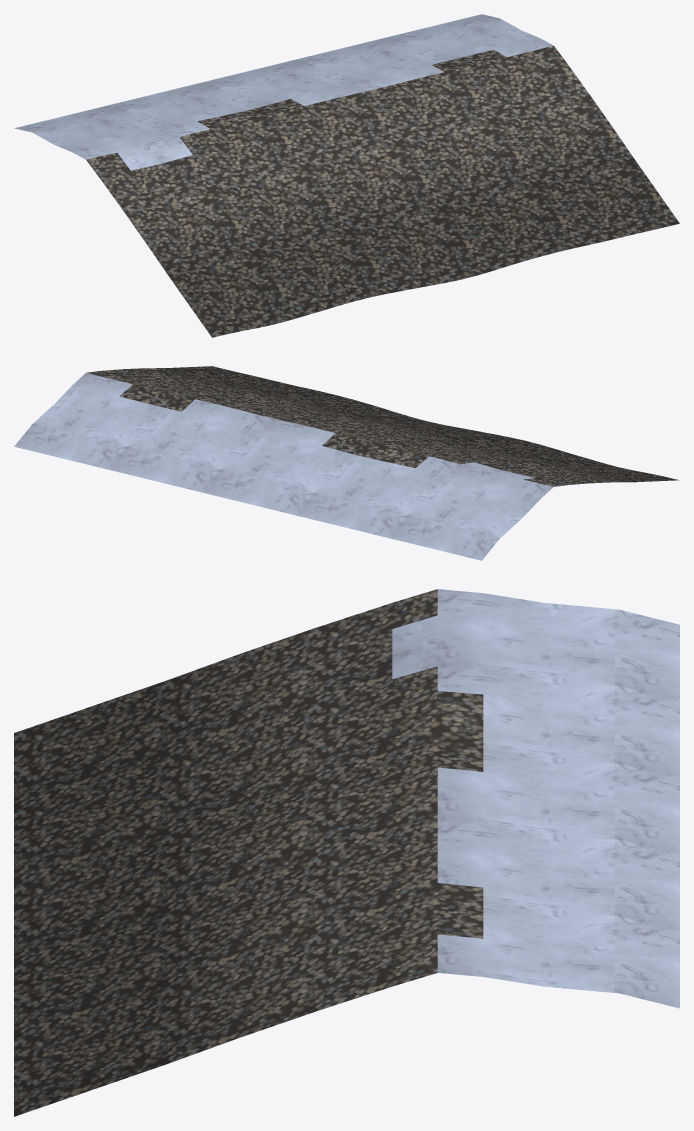
File: beach_shingle_straight6_v5_winter.glb
3 views of the same model, one above another, from view 1: azimuth 30°, elevation 25°; view 2: azimuth 150°, elevation 25°; view 3: azimuth 270°, elevation 25° (orthographic). The views are drawn at different scales.
Visible parts, largest first — view 1: beach_shingle_straight6; view 2: beach_shingle_straight6; view 3: beach_shingle_straight6.
Part boxes in pixels (bbox=[...]): beach_shingle_straight6: bbox=[14, 14, 679, 337]; beach_shingle_straight6: bbox=[14, 366, 678, 560]; beach_shingle_straight6: bbox=[14, 589, 679, 1116].
Bounding box in the file's own units: 6 × 1.09 × 4.4.
Materials: 2 (2 with a texture image).
